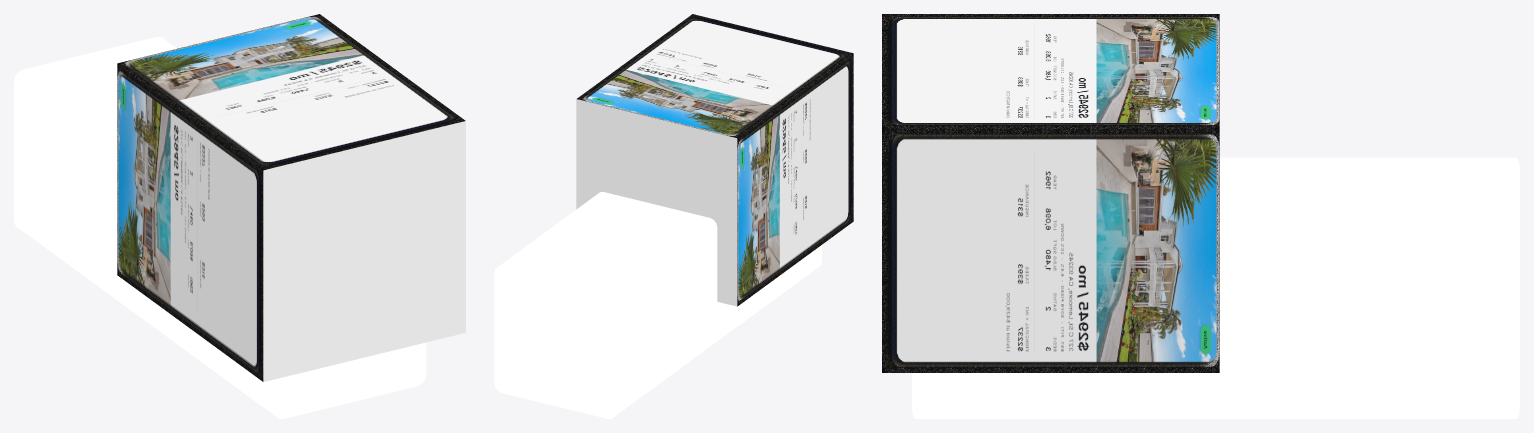
Rendered from plot-beam.glb.
The picture shows the model from 3 angles, left to right: view 1: azimuth 30°, elevation 25°; view 2: azimuth 150°, elevation 25°; view 3: azimuth 270°, elevation 25°; orthographic projection. The views are drawn at different scales.
Visible parts, largest first — view 1: PlotCardSlab, PlotTower; view 2: PlotCardSlab, PlotTower; view 3: PlotCardSlab, PlotTower.
Boxes of the visible parts, x1,y1,x2,y2 form: PlotCardSlab: (117,14,465,381); PlotTower: (14,37,426,418); PlotCardSlab: (576,14,853,306); PlotTower: (494,192,821,418); PlotCardSlab: (882,14,1219,372); PlotTower: (912,157,1519,418).
Size of the model in its own units: 4 by 5.05 by 9.44.
Materials: 2 (1 with a texture image).
